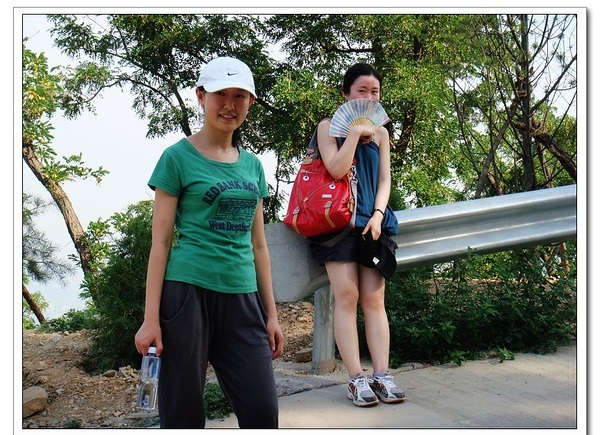face: (202, 82, 251, 130), (352, 76, 380, 109)
